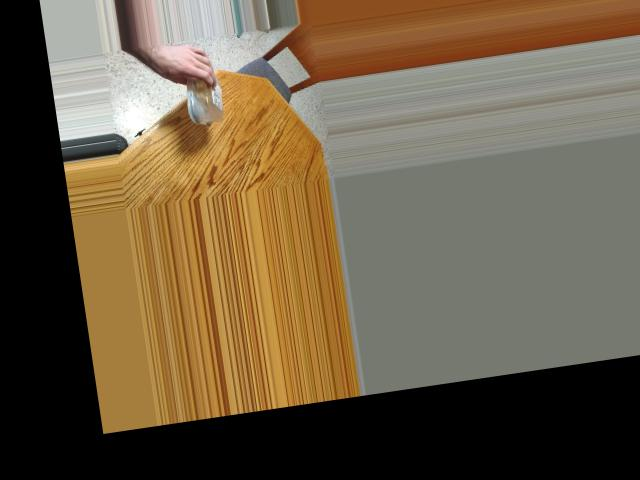cheese: (168, 60, 236, 134)
